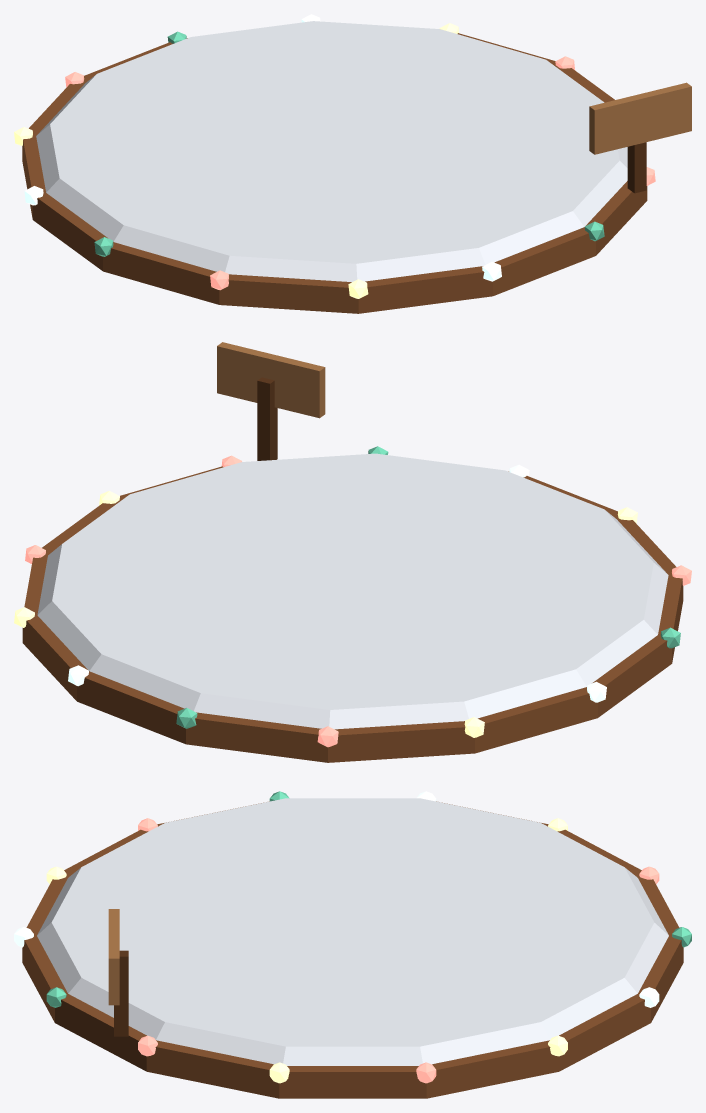
Rendered from PlotBase.fbx.
3 views of the same model, one above another, from view 1: azimuth 30°, elevation 25°; view 2: azimuth 150°, elevation 25°; view 3: azimuth 270°, elevation 25° (orthographic). The views are drawn at different scales.
Parts seen in each view (by area): view 1: PlotBase_Snow, PlotBase_Wood, PlotBase_WoodLight, PlotBase_WoodDark, PlotBase_GlowRed, PlotBase_GlowGreen, PlotBase_GlowBlue, PlotBase_GlowGold; view 2: PlotBase_Snow, PlotBase_Wood, PlotBase_WoodLight, PlotBase_WoodDark, PlotBase_GlowGold, PlotBase_GlowRed, PlotBase_GlowBlue, PlotBase_GlowGreen; view 3: PlotBase_Snow, PlotBase_Wood, PlotBase_WoodLight, PlotBase_GlowGold, PlotBase_GlowRed, PlotBase_WoodDark, PlotBase_GlowBlue, PlotBase_GlowGreen.
Part boxes in pixels (left/top/right/bottom): PlotBase_Snow: left=36, top=21, right=627, bottom=281; PlotBase_Wood: left=22, top=33, right=647, bottom=313; PlotBase_WoodLight: left=589, top=82, right=691, bottom=154; PlotBase_WoodDark: left=627, top=142, right=646, bottom=193; PlotBase_GlowRed: left=65, top=56, right=655, bottom=290; PlotBase_GlowGreen: left=94, top=31, right=604, bottom=256; PlotBase_GlowBlue: left=24, top=14, right=501, bottom=281; PlotBase_GlowGold: left=14, top=23, right=458, bottom=298; PlotBase_Snow: left=37, top=453, right=668, bottom=729; PlotBase_Wood: left=22, top=466, right=683, bottom=762; PlotBase_WoodLight: left=217, top=342, right=325, bottom=418; PlotBase_WoodDark: left=257, top=377, right=277, bottom=460; PlotBase_GlowGold: left=14, top=491, right=637, bottom=737; PlotBase_GlowRed: left=25, top=455, right=691, bottom=747; PlotBase_GlowBlue: left=68, top=464, right=606, bottom=702; PlotBase_GlowGreen: left=176, top=446, right=680, bottom=728; PlotBase_Snow: left=37, top=798, right=668, bottom=1065; PlotBase_Wood: left=22, top=801, right=683, bottom=1098; PlotBase_WoodLight: left=108, top=909, right=119, bottom=1005; PlotBase_GlowGold: left=46, top=818, right=567, bottom=1083; PlotBase_GlowRed: left=138, top=818, right=659, bottom=1083; PlotBase_WoodDark: left=114, top=950, right=128, bottom=1036; PlotBase_GlowBlue: left=14, top=791, right=659, bottom=1007; PlotBase_GlowGreen: left=46, top=791, right=691, bottom=1007.
Bounding box in the file's own units: 1802 × 380 × 1844.
